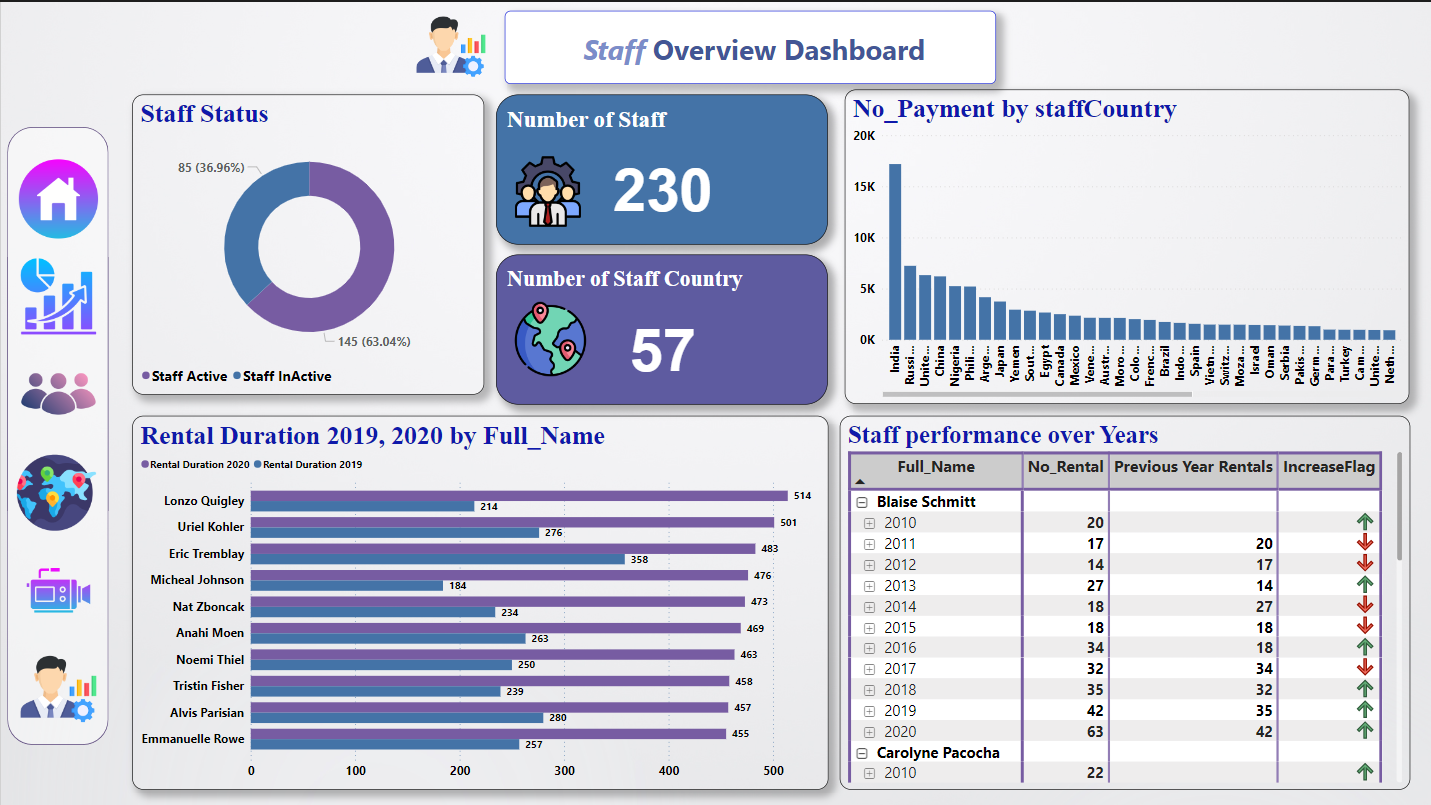

The page's visual inventory and layout, read from the dashboard file:
{"tool":"tableau","page":{"name":"Staff","canvas":[1920,1080],"ordinal":6},"visuals":[{"type":"image","param":"D:/ITI intensive code camp/Graduation Project/Sakila/Tableau/navigation bar 5 sh","box":[8,8,1904,1064]},{"type":"worksheet","title":"# Rentals by staff continant","mark":"Bar","rows":["staffContinent"],"cols":["factRental_277D3C340DA44283803A628062DB8D6C","factRental_277D3C340DA44283803A628062DB8D6C"],"box":[641,29,519,389]},{"type":"worksheet","title":"Active Staff","mark":"Bar","cols":["dimStaff_D3A51EA6C66A4FC4986B0BCC5225B586","staffIsActive"],"box":[154,38,477,282]},{"type":"worksheet","title":"Period Rented by Staff Country","mark":"Automatic","rows":["staffCountry"],"cols":["Calculation_589127193684451334"],"box":[1229,38,519,369]},{"type":"legend","title":"Active Staff","param":"[federated.0l1fx9e0quqb8p1d9259202rjaje].[:Measure Names]","box":[152,225,567,69]},{"type":"worksheet","title":"Sales Growth KPI by store manager","mark":"Shape","rows":["Calculation_589127193664176130"],"cols":["Calculation_345651338750271495"],"box":[155,416,1653,452]},{"type":"dashboard-object","box":[734,823,185,123]},{"type":"dashboard-object","box":[1017,828,180,123]},{"type":"dashboard-object","box":[1298,828,180,123]},{"type":"dashboard-object","box":[1579,828,180,123]},{"type":"dashboard-object","box":[455,830,180,123]},{"type":"dashboard-object","box":[178,834,175,122]}]}

Visuals, with their boxes in screenshot pixels (x1, y1, x2, y2), scaled from the page's 1920x1080 canvas onto the 1431x805 screenshot:
image: <region>6, 6, 1425, 799</region>
"# Rentals by staff continant" worksheet (Bar marks): <region>478, 22, 865, 312</region>
"Active Staff" worksheet (Bar marks): <region>115, 28, 470, 239</region>
"Period Rented by Staff Country" worksheet: <region>916, 28, 1303, 303</region>
"Active Staff" legend: <region>113, 168, 536, 219</region>
"Sales Growth KPI by store manager" worksheet (Shape marks): <region>116, 310, 1348, 647</region>
dashboard-object: <region>547, 613, 685, 705</region>
dashboard-object: <region>758, 617, 892, 709</region>
dashboard-object: <region>967, 617, 1102, 709</region>
dashboard-object: <region>1177, 617, 1311, 709</region>
dashboard-object: <region>339, 619, 473, 710</region>
dashboard-object: <region>133, 622, 263, 713</region>
